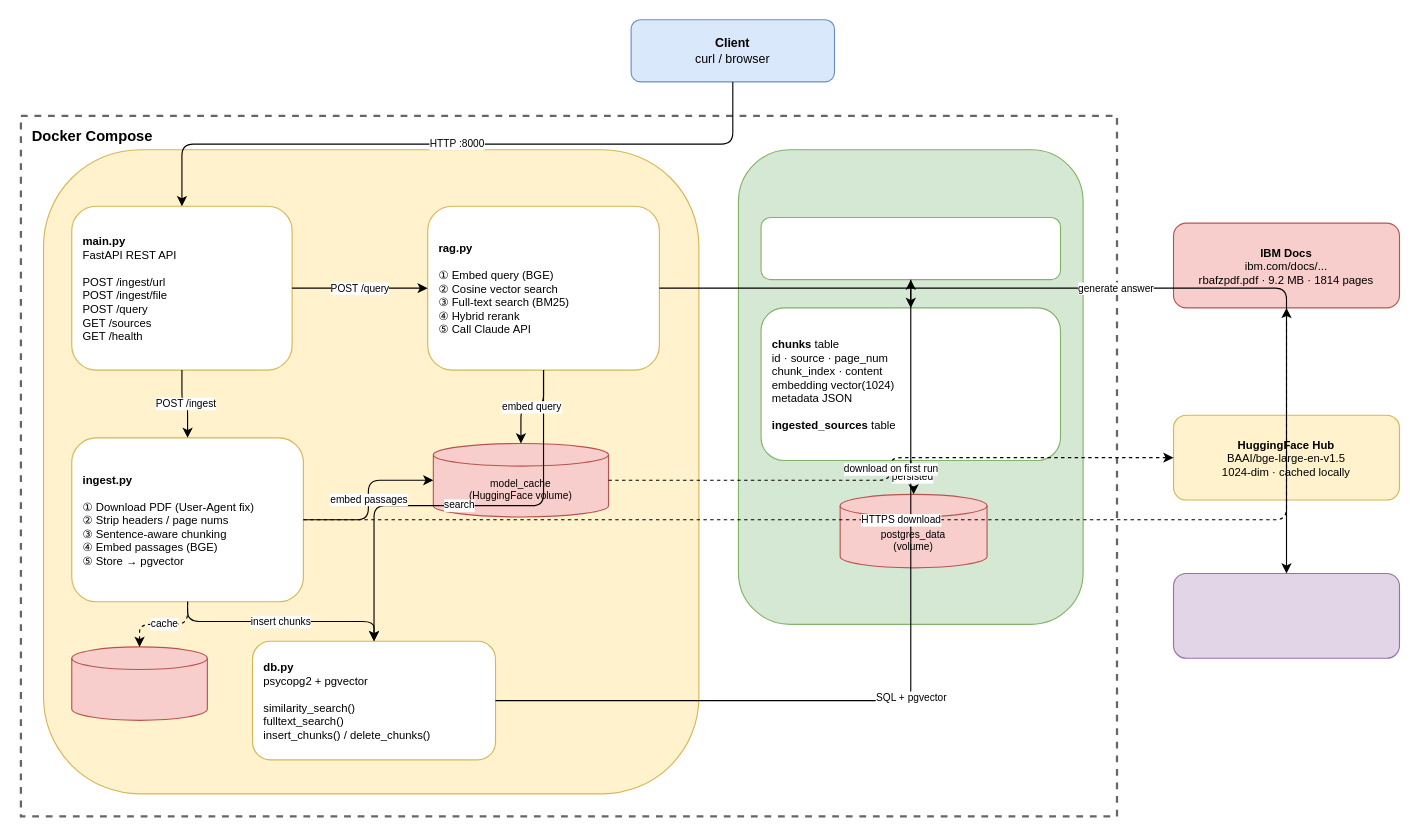
Some shapes in this 1419 by 837 pixel diagram are drawn without their labels. Here are the shapes that lost their labels. From the top down, the box of each, then its label:
(760, 216, 1061, 280): PostgreSQL 16 + pgvector
(737, 149, 1083, 624): rag-postgres · pgvector/pgvector:pg16
(42, 149, 699, 794): rag-app · Python 3.11 · :8000
(1172, 572, 1400, 658): Anthropic Claude API claude-sonnet-4 Answer generation
(71, 646, 207, 720): pdf_cache (volume)
